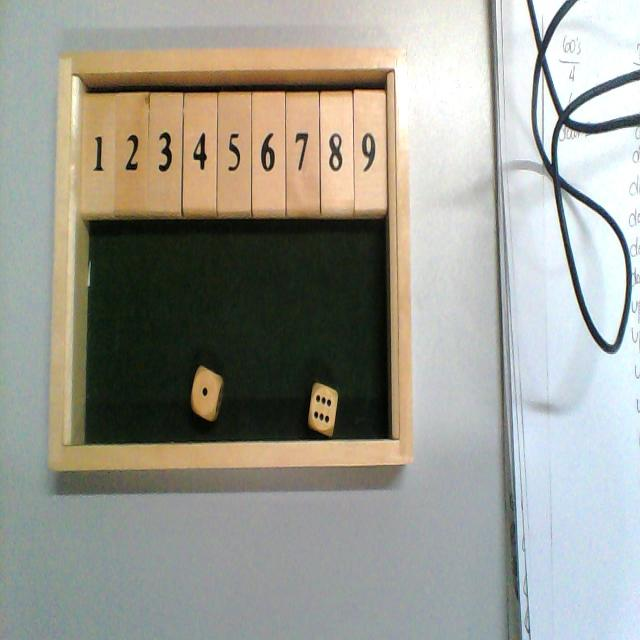1: (184, 358, 227, 429)
6: (306, 376, 339, 441)
C1: (81, 52, 116, 222)
C2: (117, 50, 149, 219)
C3: (149, 48, 182, 220)
C4: (182, 51, 218, 220)
C5: (218, 49, 253, 219)
C6: (252, 50, 287, 220)
C7: (286, 49, 320, 219)
C8: (319, 51, 355, 218)
C9: (354, 48, 390, 218)
